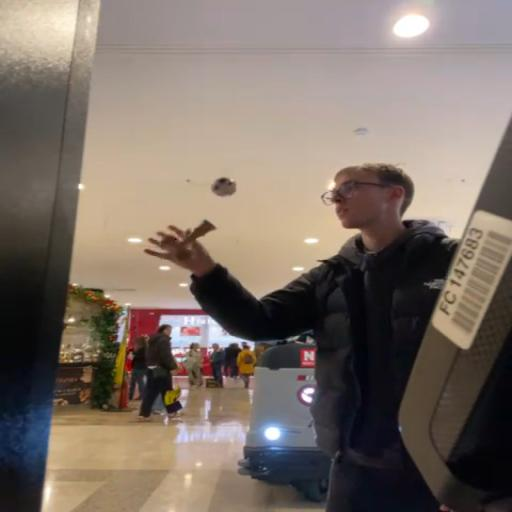kendama_ball: (210, 176, 237, 197)
